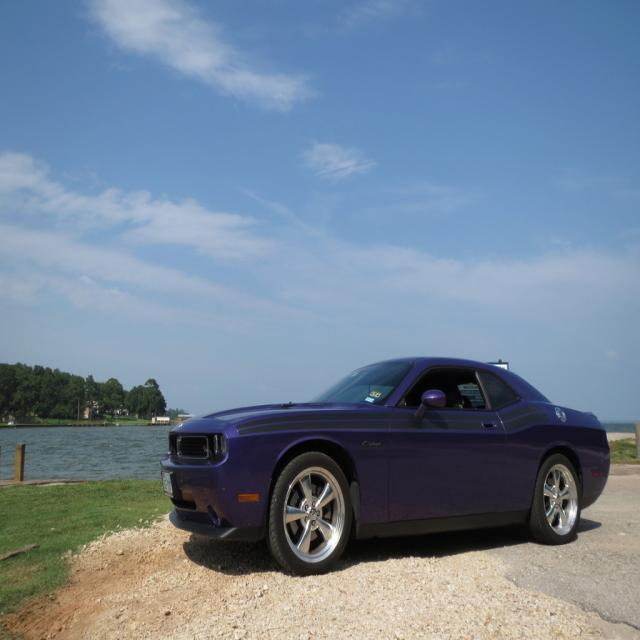car: (158, 353, 610, 579)
